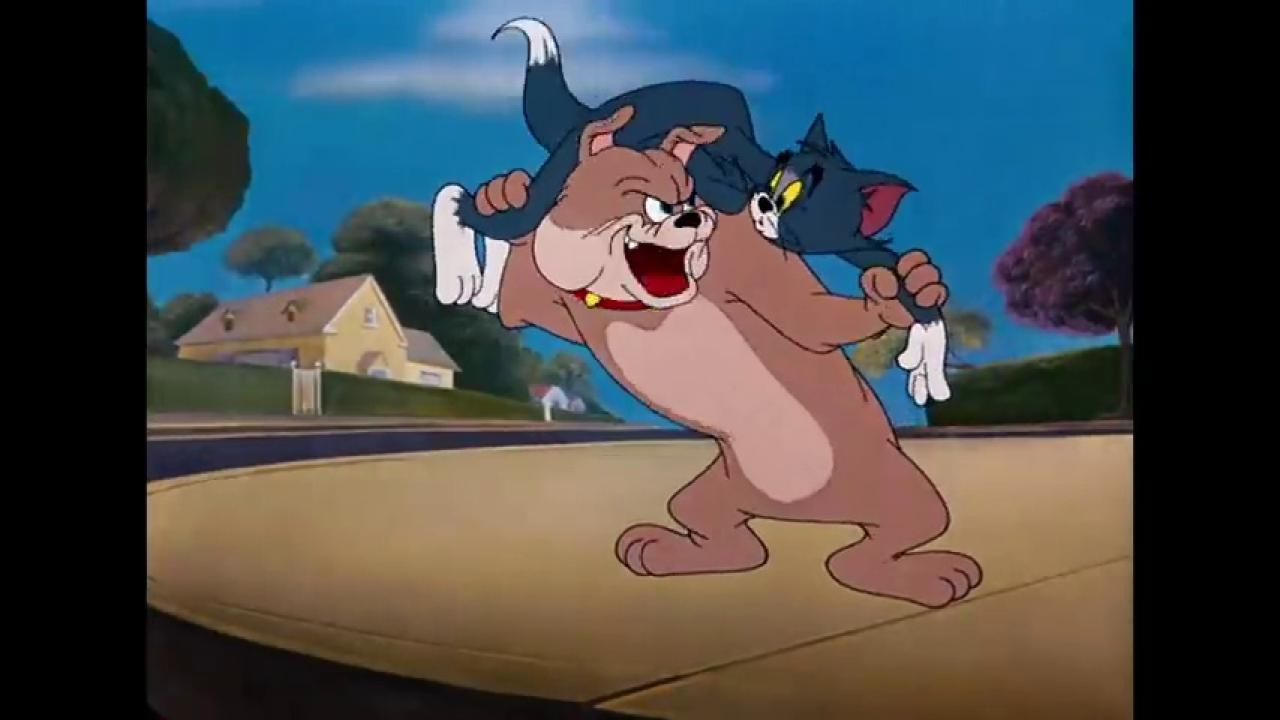Tom: (431, 14, 954, 406)
